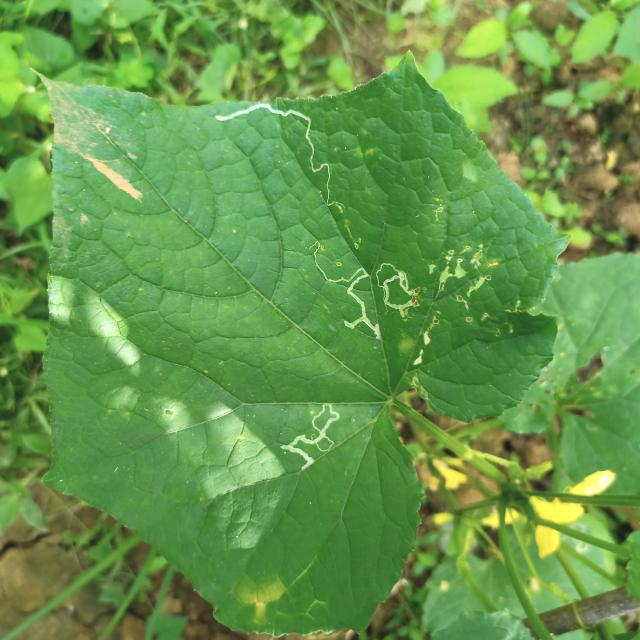disease_cucumber: (239, 578, 283, 628)
